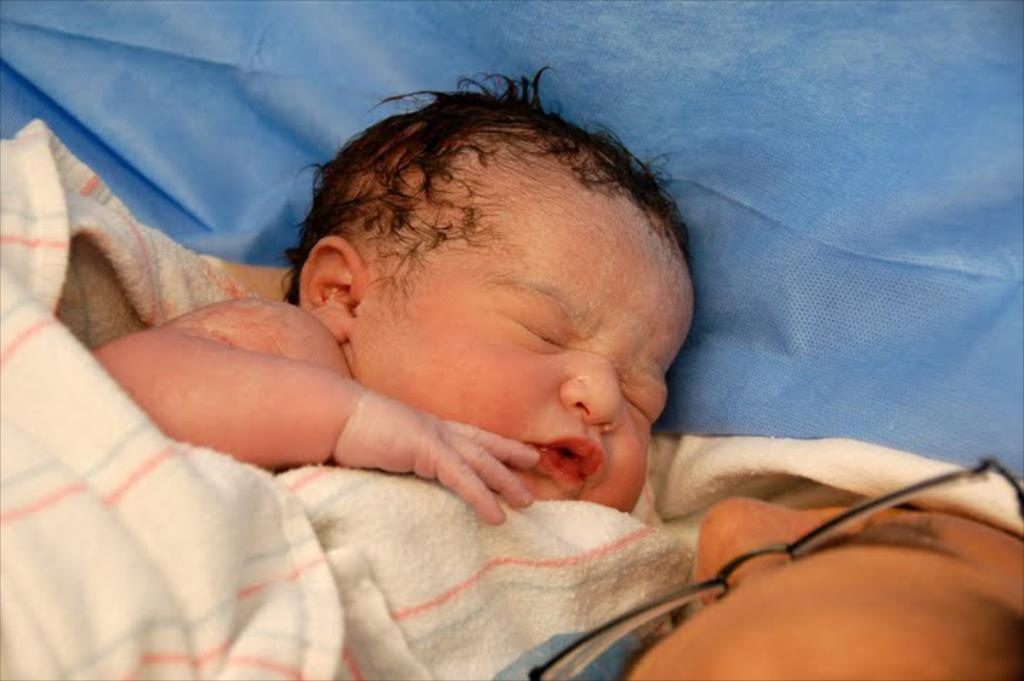Person: (89, 66, 694, 525)
